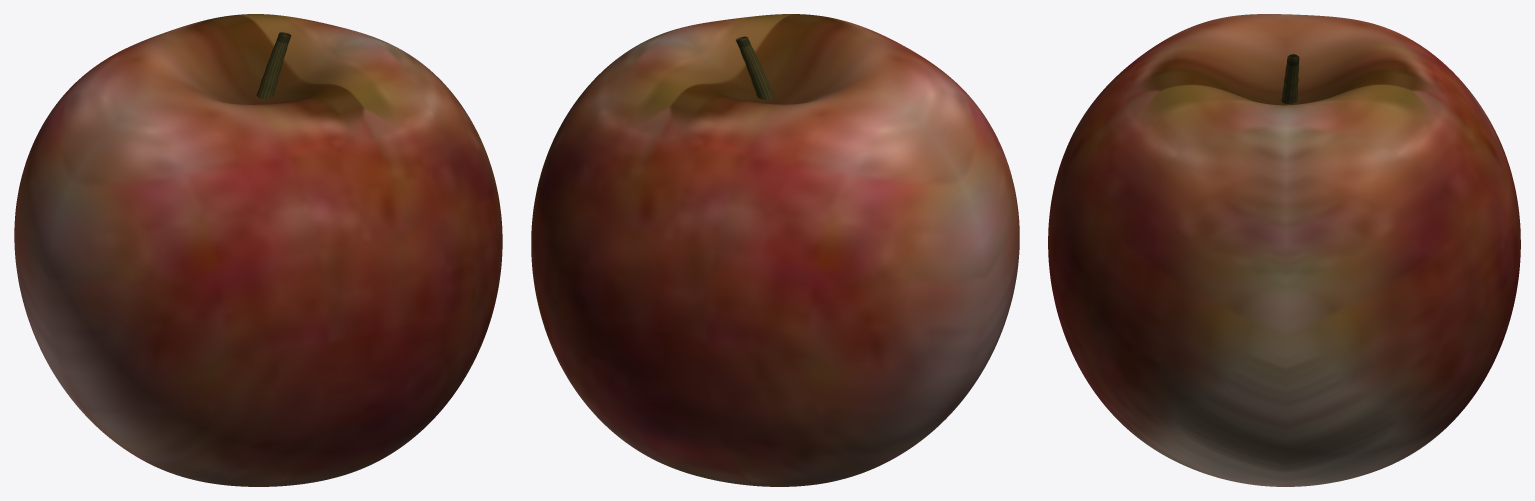
The model's file is hongro-apple.glb.
3 views of the same model, side by side, from view 1: azimuth 30°, elevation 25°; view 2: azimuth 150°, elevation 25°; view 3: azimuth 270°, elevation 25° (orthographic).
Parts seen in each view (by area): view 1: Hongro_Apple_Body, Hongro_Stem; view 2: Hongro_Apple_Body, Hongro_Stem; view 3: Hongro_Apple_Body, Hongro_Stem.
Part boxes in pixels (left/top/right/bottom): Hongro_Apple_Body: left=14, top=14, right=502, bottom=486; Hongro_Stem: left=256, top=32, right=291, bottom=98; Hongro_Apple_Body: left=531, top=14, right=1019, bottom=486; Hongro_Stem: left=735, top=36, right=774, bottom=99; Hongro_Apple_Body: left=1048, top=14, right=1520, bottom=486; Hongro_Stem: left=1281, top=54, right=1299, bottom=103.
Bounding box in the file's own units: 0.0801 × 0.0718 × 0.0777.
2 materials, 2 textured.
